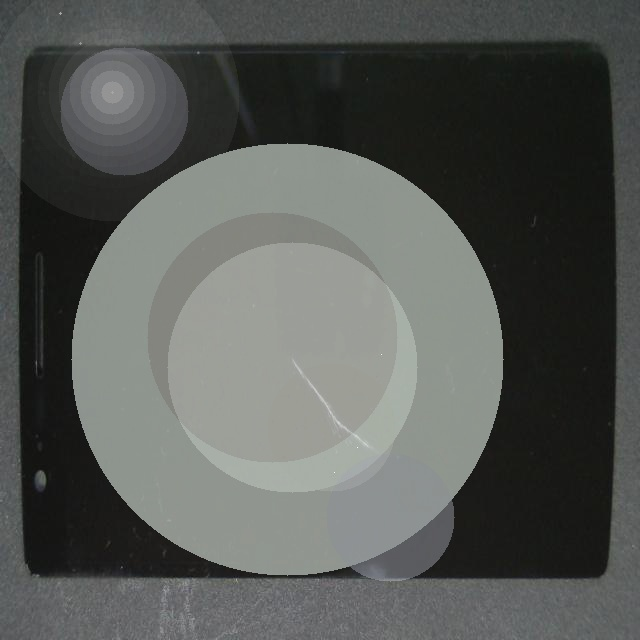scratch: (94, 121, 458, 595)
